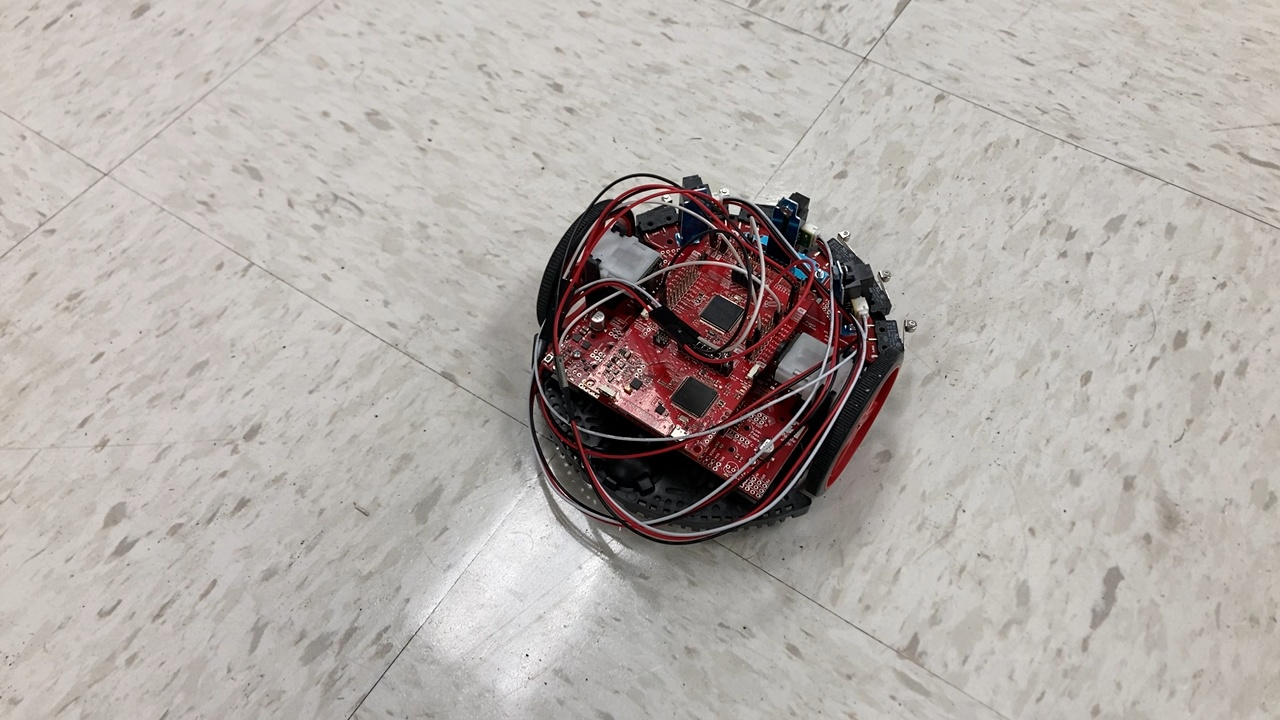robot: (516, 167, 926, 547)
